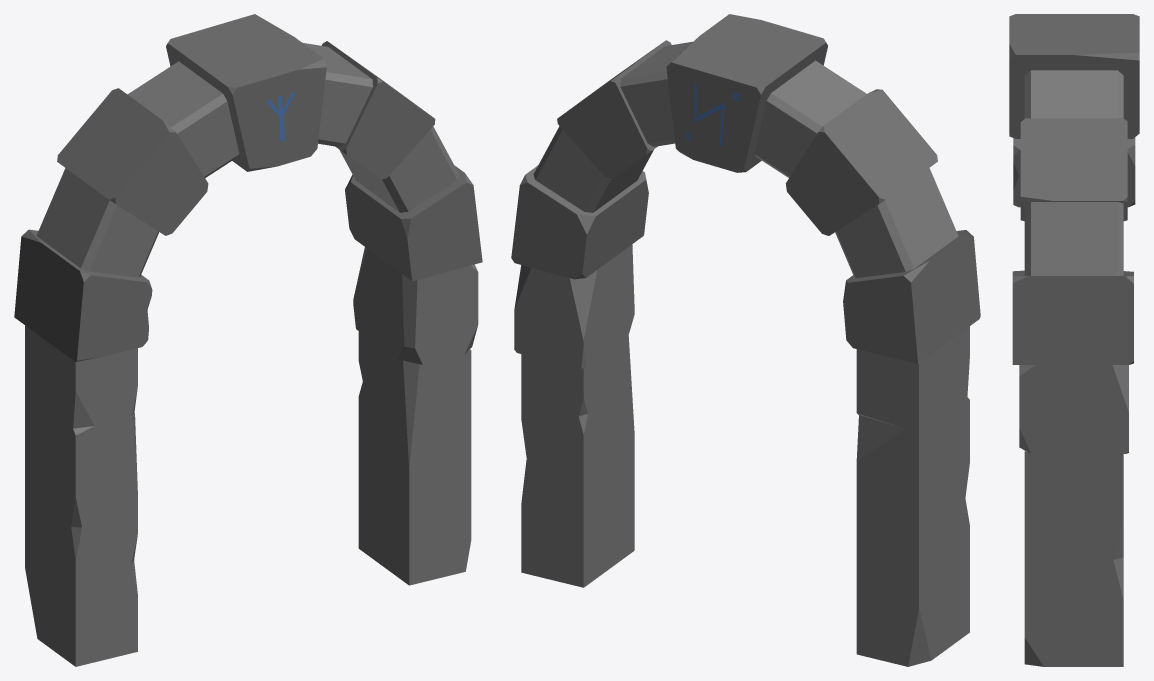
Rendered from Arch_01.fbx.
3 views of the same model, side by side, from view 1: azimuth 30°, elevation 25°; view 2: azimuth 150°, elevation 25°; view 3: azimuth 270°, elevation 25° (orthographic). The views are drawn at different scales.
Parts seen in each view (by area): view 1: Arch_01_LOD0; view 2: Arch_01_LOD0; view 3: Arch_01_LOD0.
Part boxes in pixels (x1,y1,x2,y2): Arch_01_LOD0: (14,14,482,666); Arch_01_LOD0: (511,14,980,666); Arch_01_LOD0: (1009,14,1139,666).
Size of what is drawn, in the model's own units: 2.39 by 3.11 by 0.6815.
